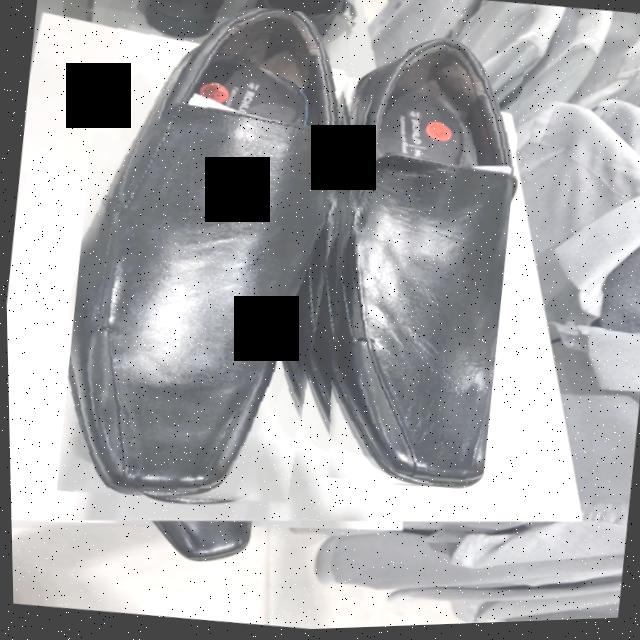shoe: (67, 9, 347, 499), (326, 35, 513, 492)
